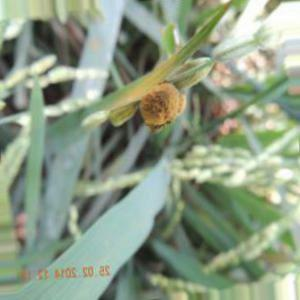Leaf_Scald: (142, 84, 186, 136)
